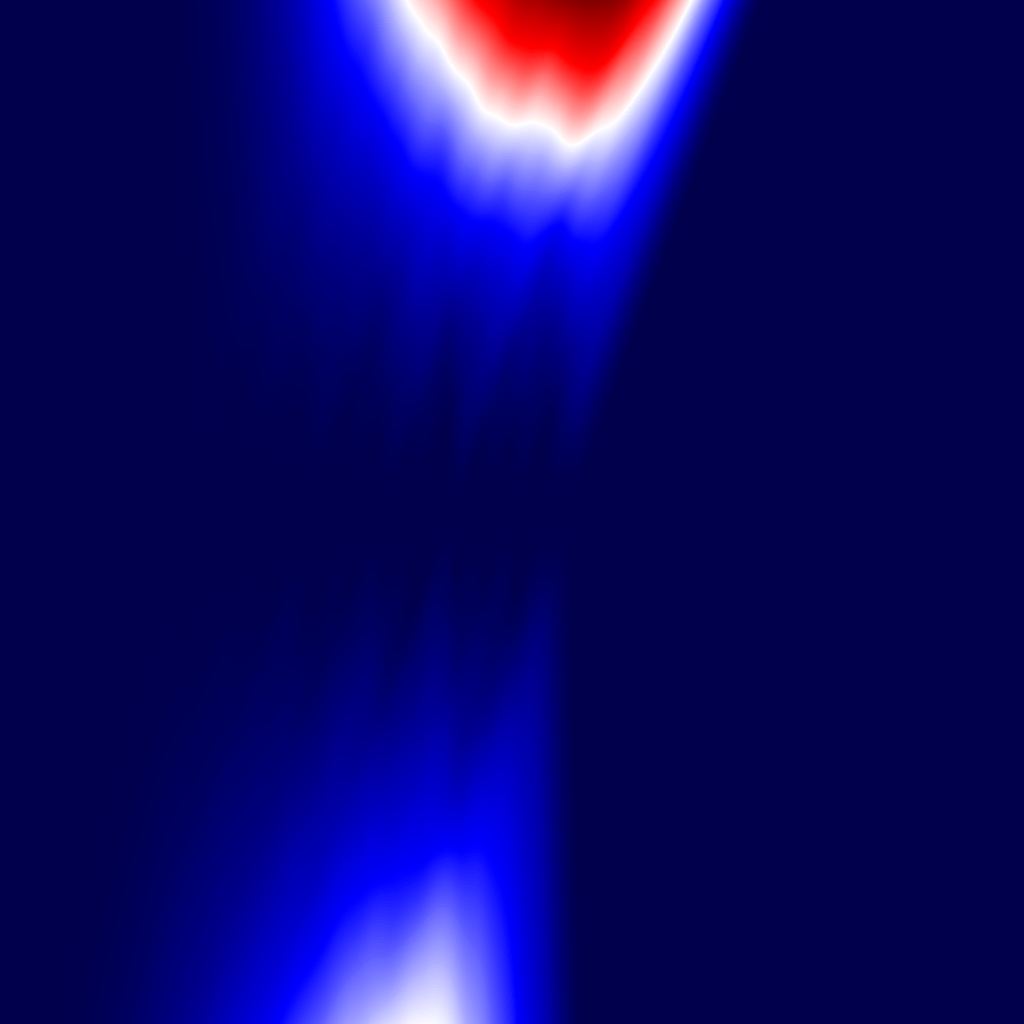diamond: (118, 317, 196, 707), (196, 407, 237, 617), (414, 413, 453, 611), (265, 423, 300, 601), (516, 425, 551, 599), (318, 427, 352, 597), (458, 439, 487, 585), (488, 440, 516, 584), (352, 442, 380, 582), (238, 444, 265, 580), (392, 456, 414, 568), (552, 461, 572, 563), (301, 471, 317, 553), (380, 483, 391, 541), (454, 502, 458, 522)
